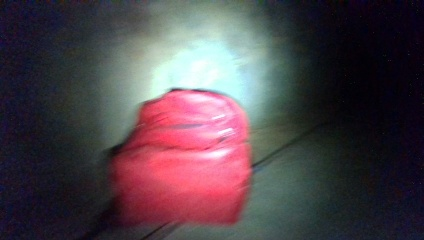backpack: (112, 87, 254, 229)
